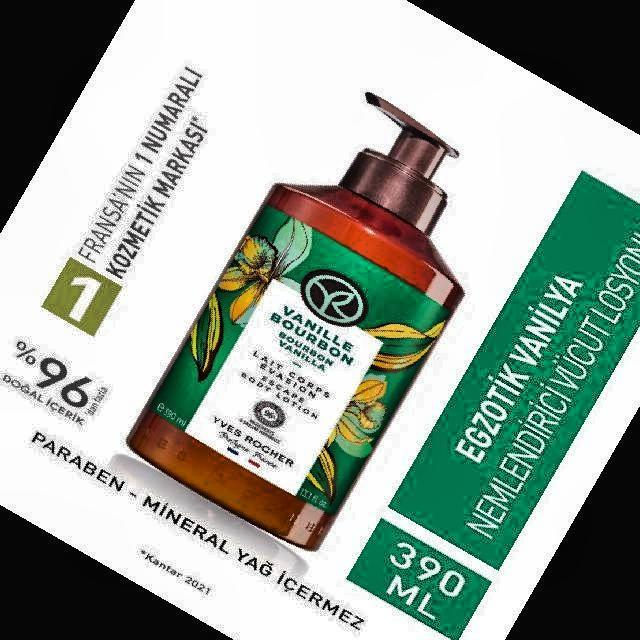plastic: (129, 92, 462, 549)
